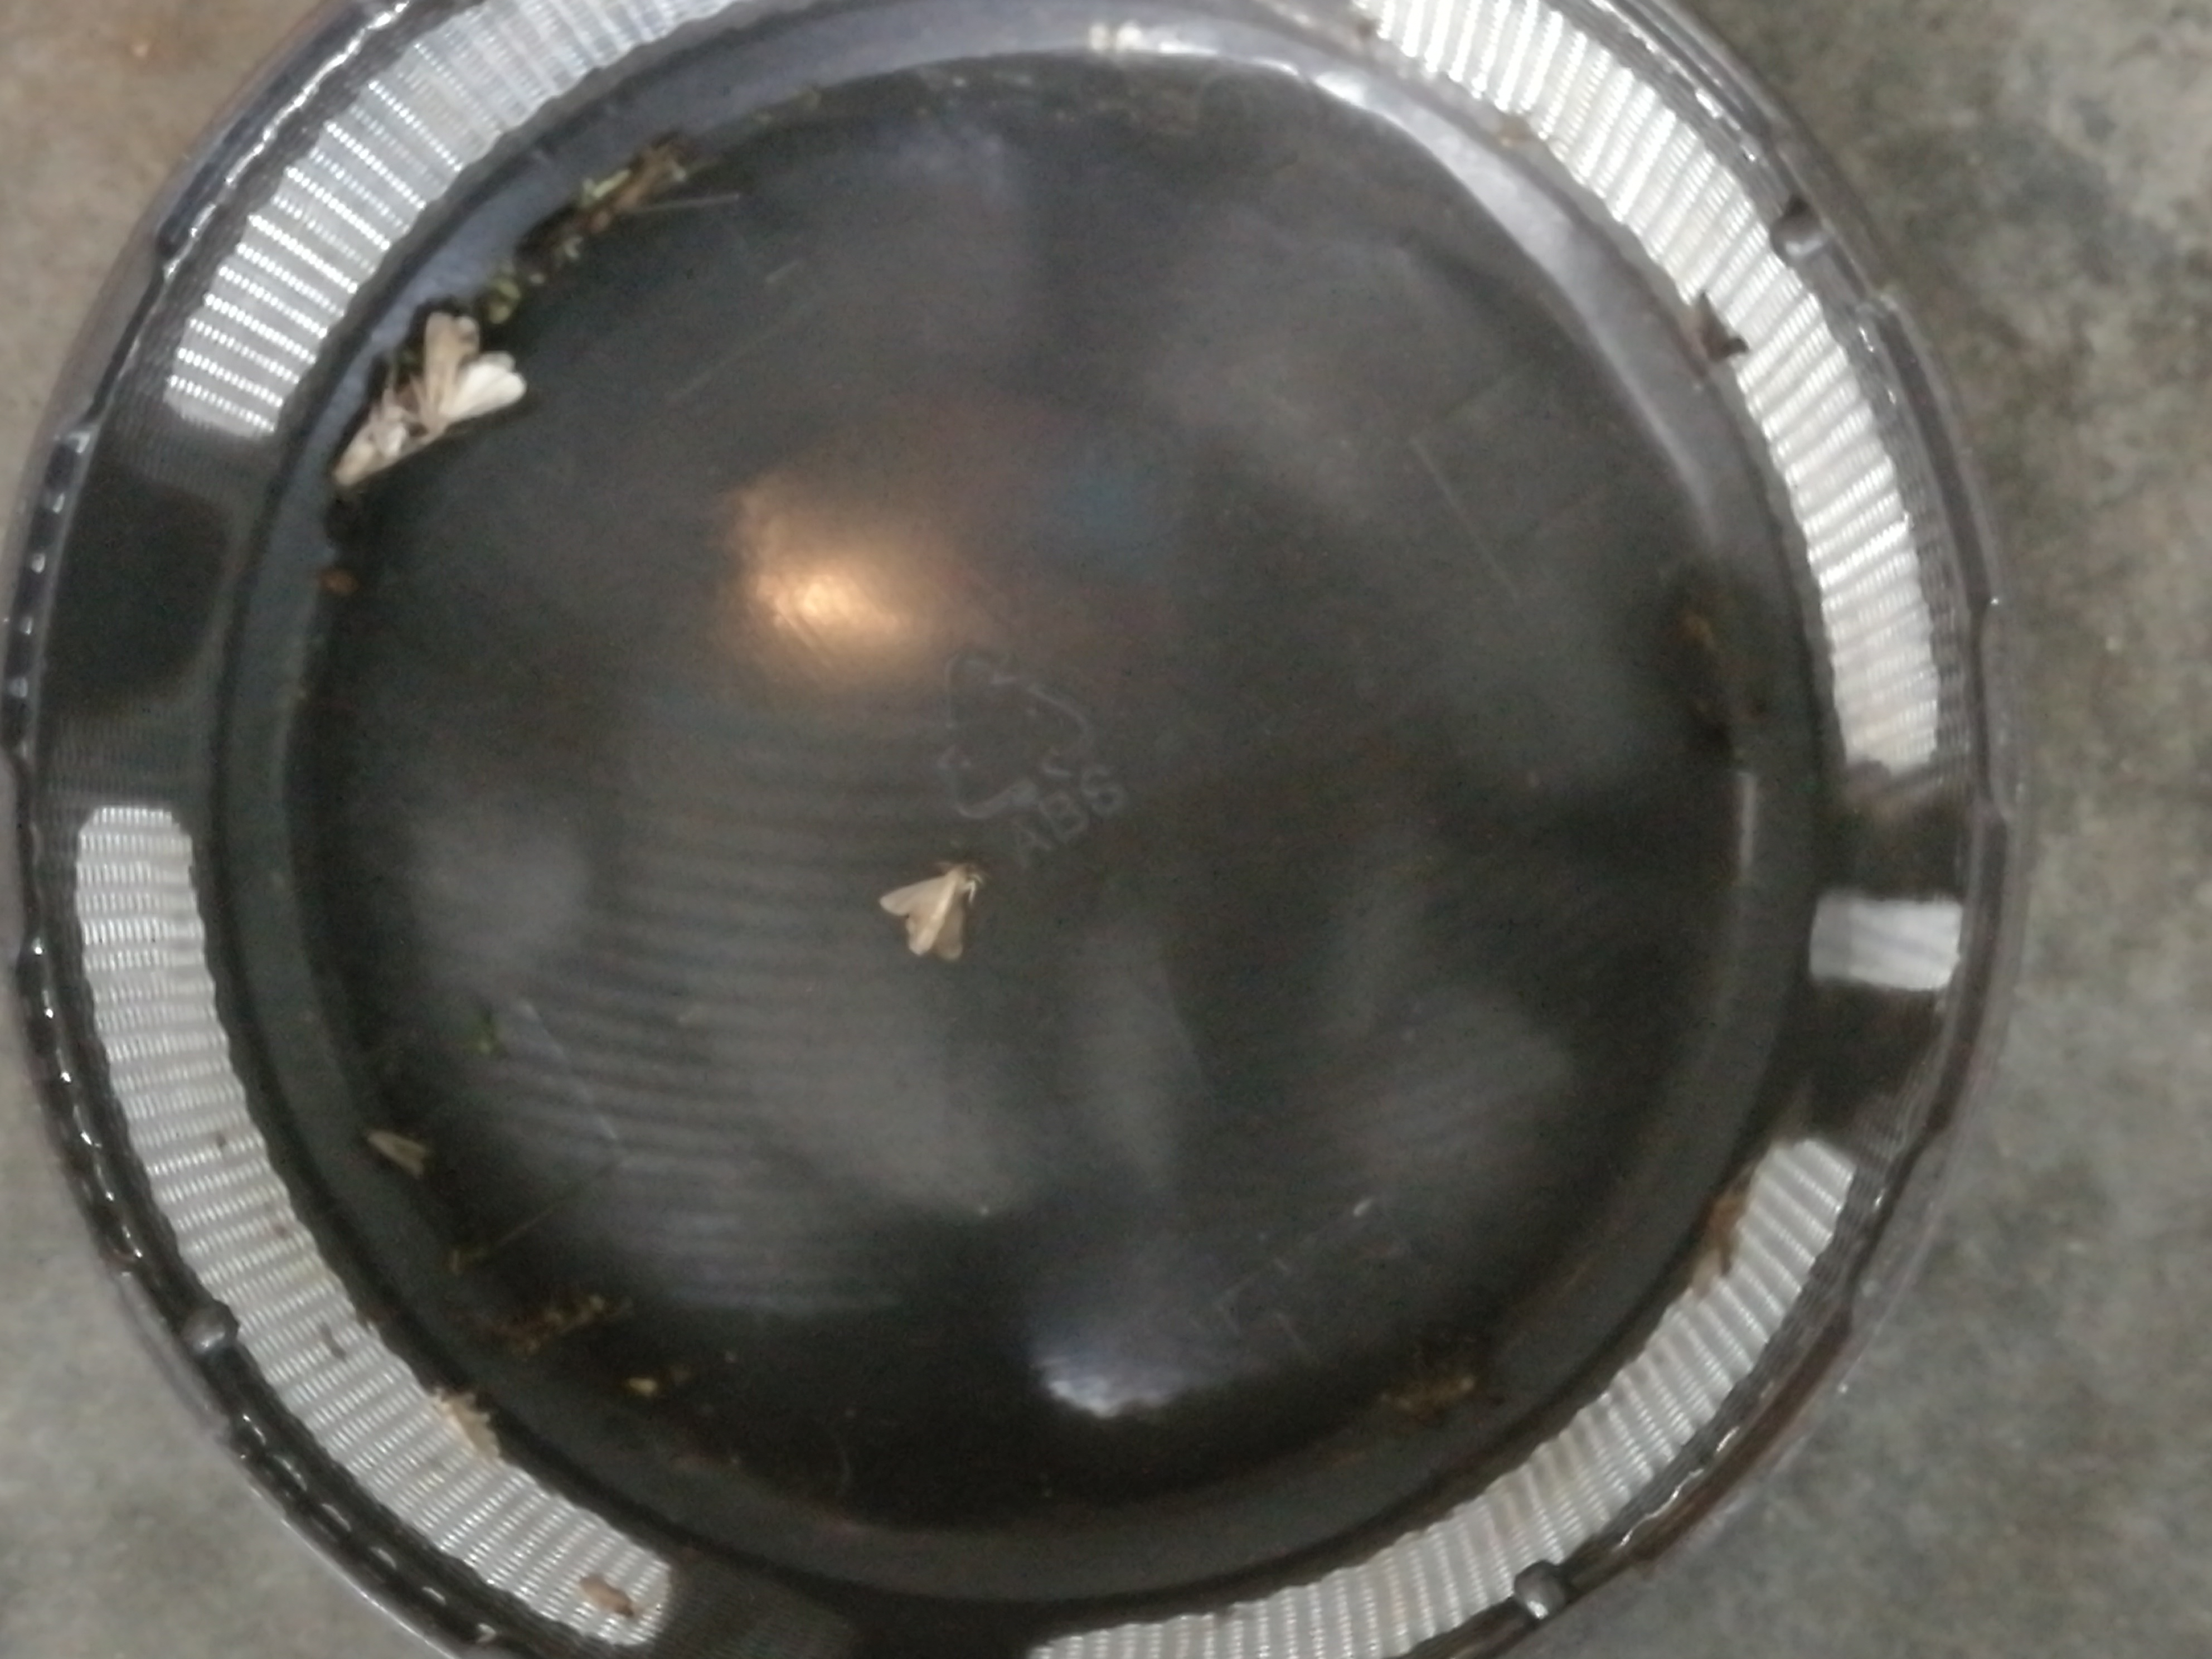moth: (408, 314, 524, 443), (883, 861, 982, 960), (334, 394, 411, 484)
